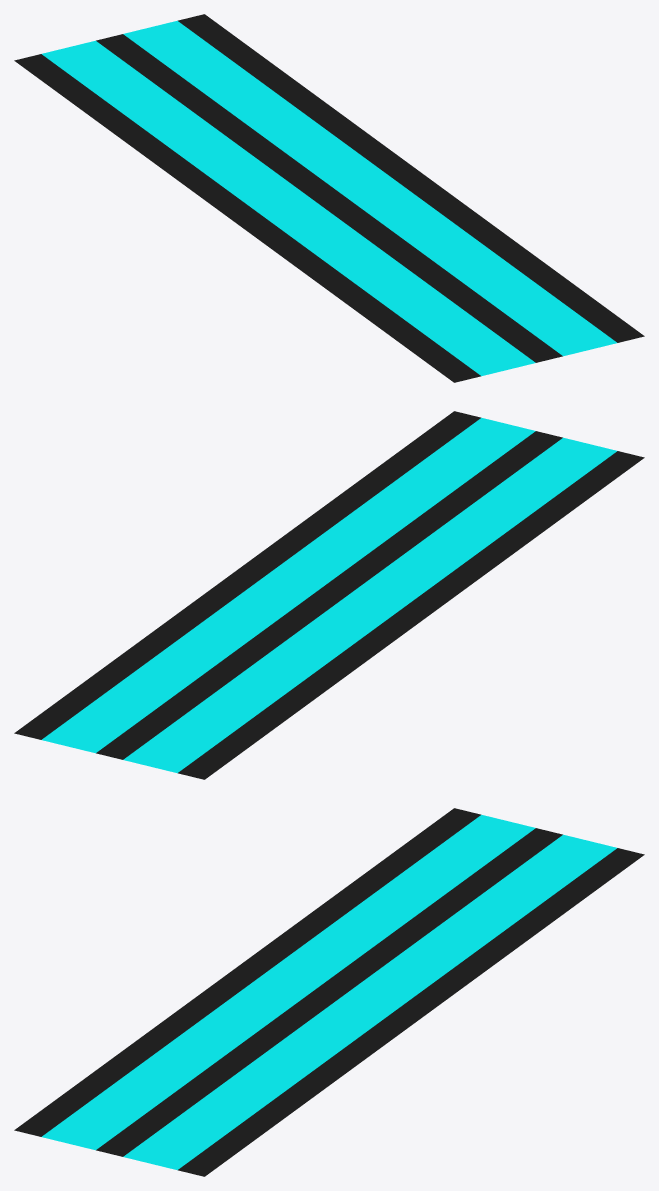
File: RaceTrack_Straight_20m 1.fbx
3 renders of one model, top to bottom at view 1: azimuth 30°, elevation 25°; view 2: azimuth 150°, elevation 25°; view 3: azimuth 330°, elevation 25°, orthographic.
Parts seen in each view (by area): view 1: Straight_20m; view 2: Straight_20m; view 3: Straight_20m.
Boxes of the visible parts, bbox=[...] form: Straight_20m: bbox=[14, 14, 644, 382]; Straight_20m: bbox=[14, 411, 644, 779]; Straight_20m: bbox=[14, 808, 644, 1176].
Size of the model in its own units: 5 by 1.75e-06 by 20.
